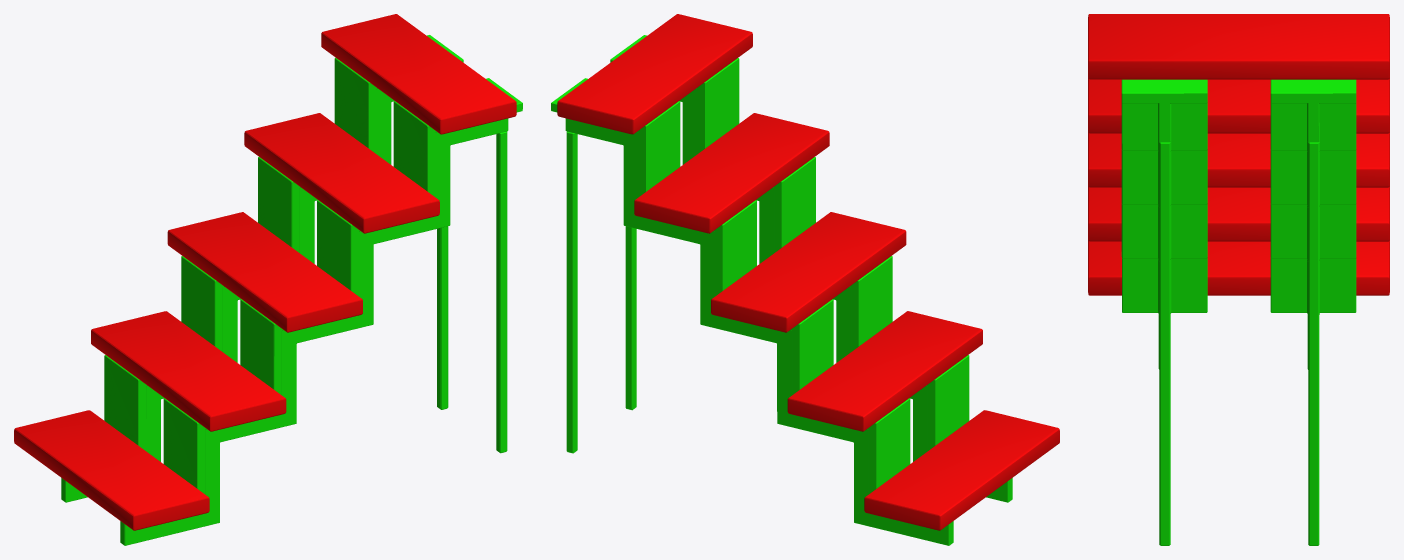
File: Escalera.FBX
The picture shows the model from 3 angles, left to right: view 1: azimuth 30°, elevation 25°; view 2: azimuth 150°, elevation 25°; view 3: azimuth 270°, elevation 25°; orthographic projection. The views are drawn at different scales.
Parts seen in each view (by area): view 1: Line001, Line002, Plane002, Plane007, Plane009, Plane004, Plane006, Box001, Box002; view 2: Line002, Line001, Plane002, Plane004, Plane006, Plane007, Plane009, Box002, Box001; view 3: Plane009, Line002, Line001, Plane006, Plane007, Plane002, Plane004, Box001, Box002.
Boxes of the visible parts, x1=… form: Line001: x1=120, y1=78, x2=522, y2=545; Line002: x1=61, y1=35, x2=463, y2=502; Plane002: x1=14, y1=410, x2=209, y2=530; Plane007: x1=244, y1=113, x2=439, y2=233; Plane009: x1=321, y1=14, x2=516, y2=134; Plane004: x1=91, y1=311, x2=286, y2=431; Plane006: x1=167, y1=212, x2=362, y2=332; Box001: x1=496, y1=131, x2=507, y2=453; Box002: x1=437, y1=226, x2=448, y2=409; Line002: x1=551, y1=78, x2=953, y2=545; Line001: x1=610, y1=35, x2=1012, y2=502; Plane002: x1=864, y1=410, x2=1059, y2=530; Plane004: x1=787, y1=311, x2=982, y2=431; Plane006: x1=711, y1=212, x2=906, y2=332; Plane007: x1=634, y1=113, x2=829, y2=233; Plane009: x1=557, y1=14, x2=752, y2=134; Box002: x1=566, y1=131, x2=577, y2=453; Box001: x1=625, y1=226, x2=636, y2=410; Plane009: x1=1088, y1=14, x2=1389, y2=79; Line002: x1=1270, y1=79, x2=1356, y2=369; Line001: x1=1121, y1=79, x2=1207, y2=369; Plane006: x1=1088, y1=130, x2=1389, y2=187; Plane007: x1=1088, y1=76, x2=1389, y2=133; Plane002: x1=1088, y1=239, x2=1389, y2=295; Plane004: x1=1088, y1=185, x2=1389, y2=241; Box001: x1=1159, y1=142, x2=1170, y2=545; Box002: x1=1308, y1=142, x2=1319, y2=545.
Size of the model in its own units: 52.53 by 46.96 by 27.02.
